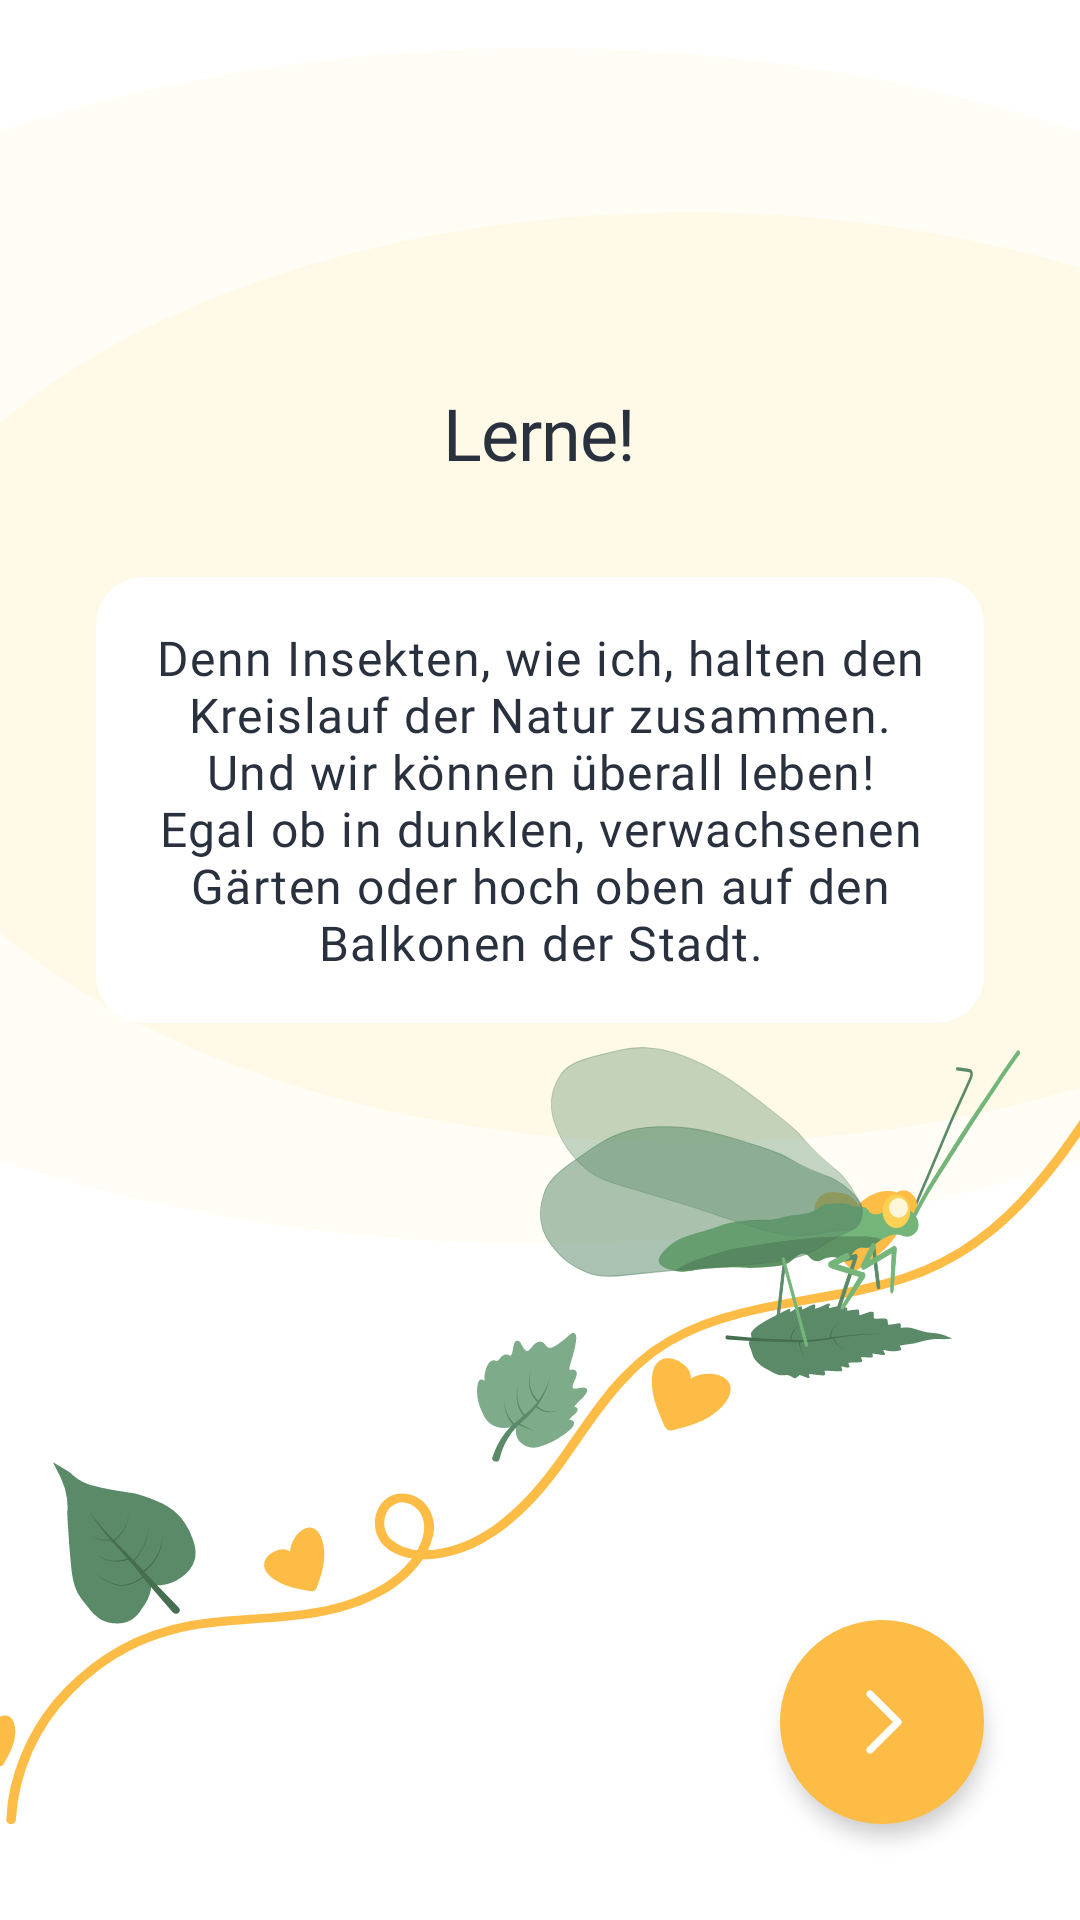

Icons on this 1080*1920 Android screen, each with the point to tap as point (x, y):
right: point (882, 1722)
